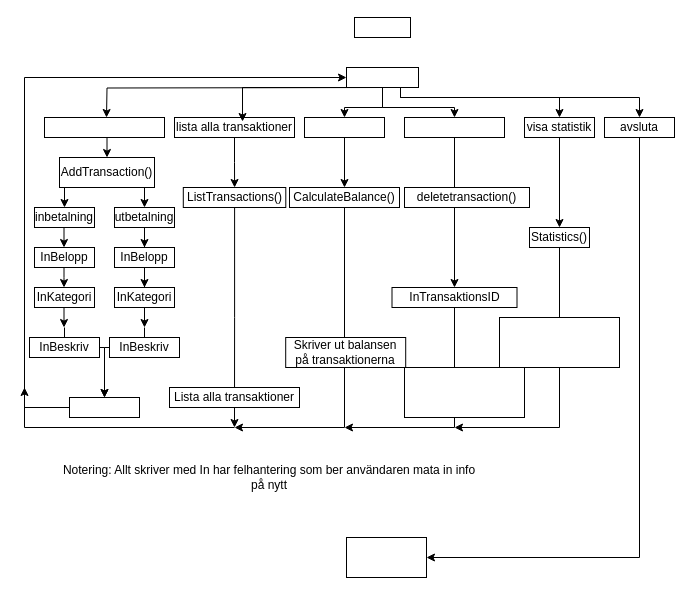
Some shapes in this 692 by 595 pixel diagram are drawn without their labels. Here are the shapes that lost their labels. From the top down, the centre of each, then its label:
(382,27): start
(382,77): InMeny
(104,127): lägg till en transaktion
(344,127): visa balansen
(454,127): ta bort transaktion
(559,342): Skriver ut total inkomst, utkomst och antal transaktioner
(104,407): skriv ut info
(464,392): Skriver ut vilken transaktion som togs bort
(386,557): END
